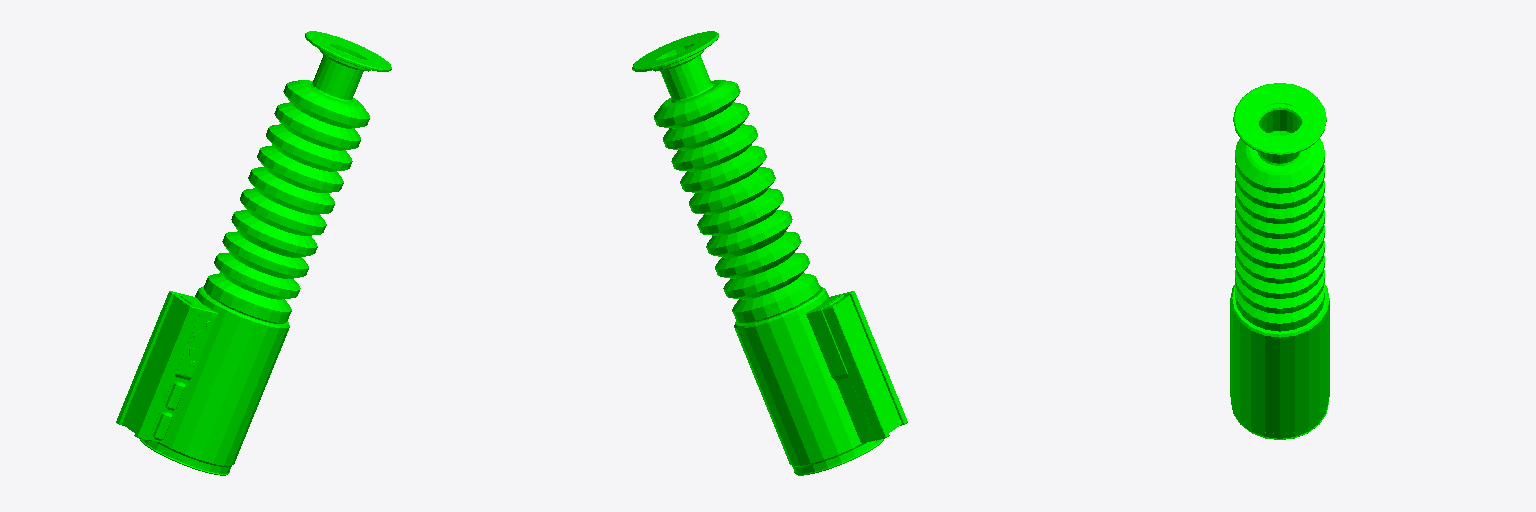
The model's file is Grip_Luke.obj.
3 views of the same model, side by side, from view 1: azimuth 30°, elevation 25°; view 2: azimuth 150°, elevation 25°; view 3: azimuth 270°, elevation 25° (orthographic).
Parts seen in each view (by area): view 1: Grip_Luke Luke_GRP; view 2: Grip_Luke Luke_GRP; view 3: Grip_Luke Luke_GRP.
Boxes of the visible parts, x1=… form: Grip_Luke Luke_GRP: x1=116, y1=31, x2=391, y2=475; Grip_Luke Luke_GRP: x1=632, y1=31, x2=907, y2=475; Grip_Luke Luke_GRP: x1=1230, y1=83, x2=1329, y2=439.
Size of the model in its own units: 8.49 by 12.6 by 2.83.